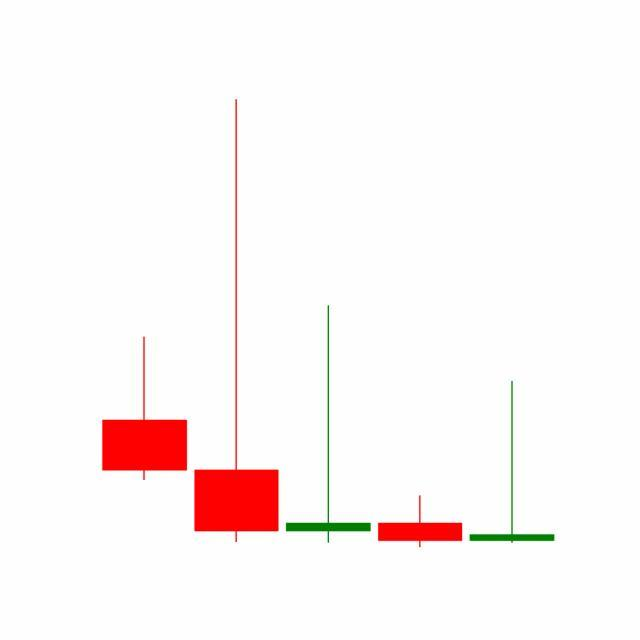Gravestone Doji: (466, 380, 559, 546)
